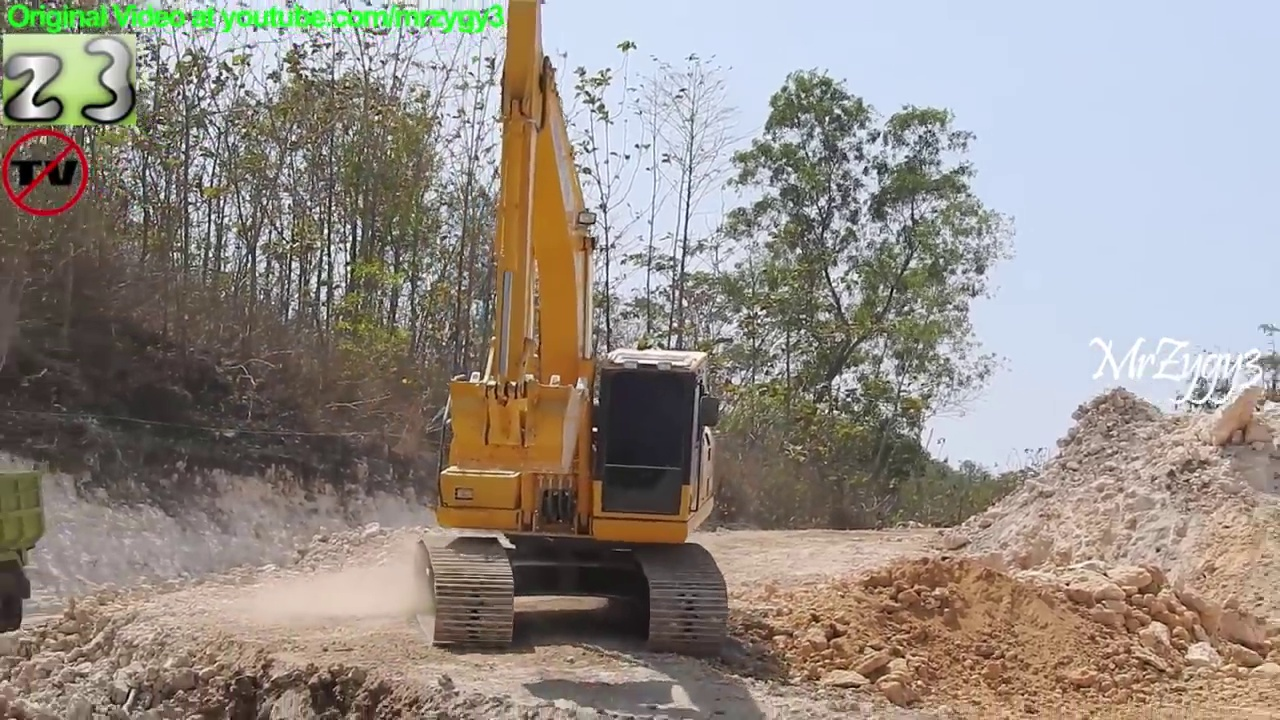excavator: (399, 1, 740, 664)
truck: (1, 462, 57, 644)
